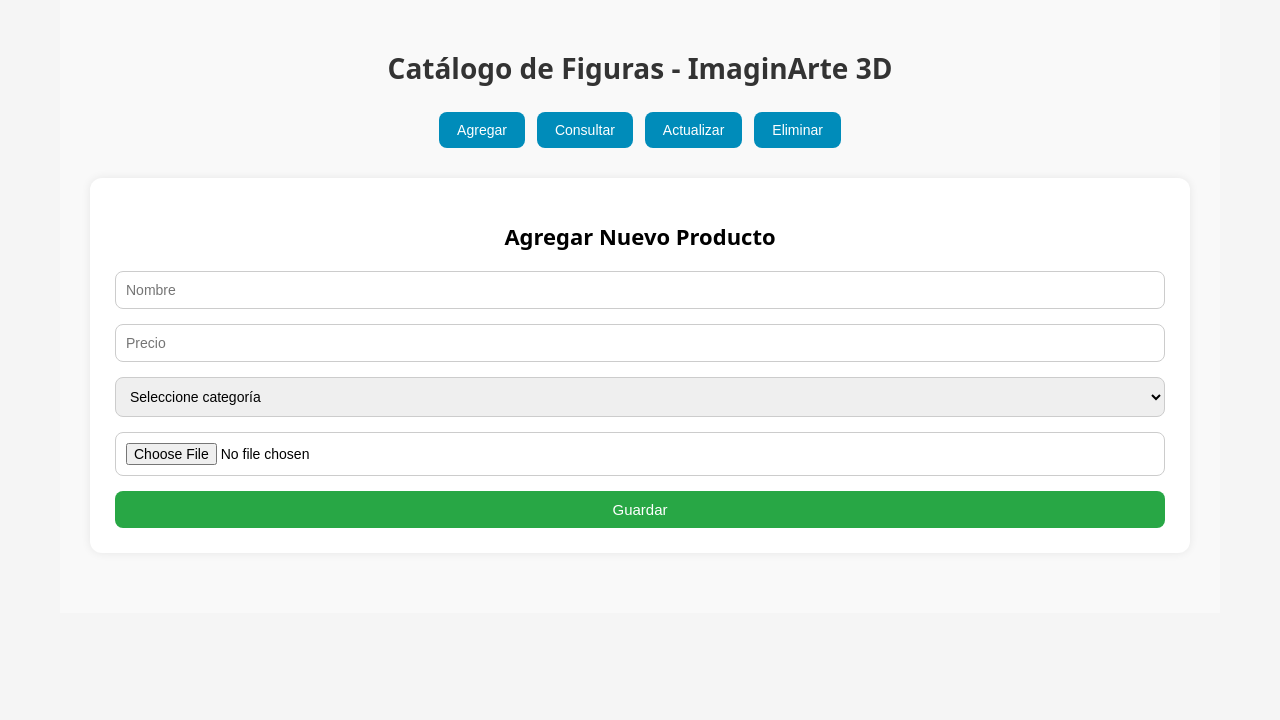
Test: CatalogoFiguras › Carga datos para actualizar figura al hacer clic en Editar
Click the button "Consultar" at (585, 130), box [537,112,633,148]
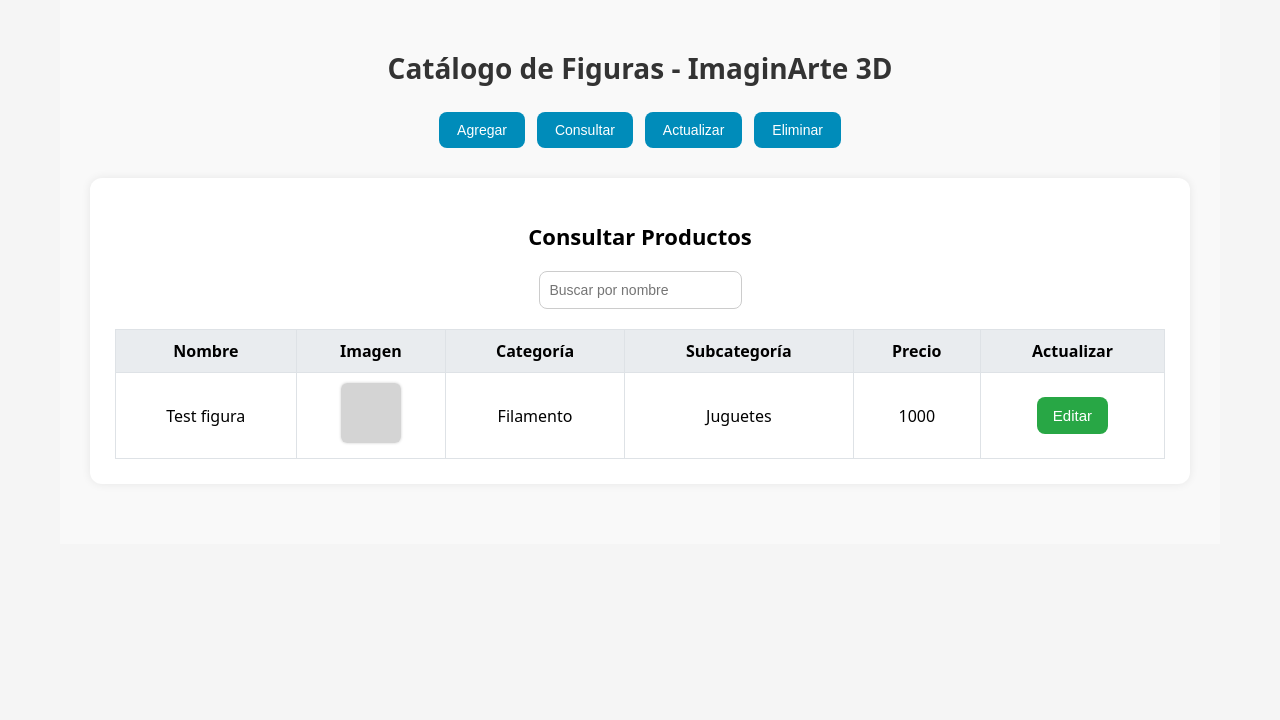
Click the button "Editar" at (1072, 416), box [1037,397,1108,434]
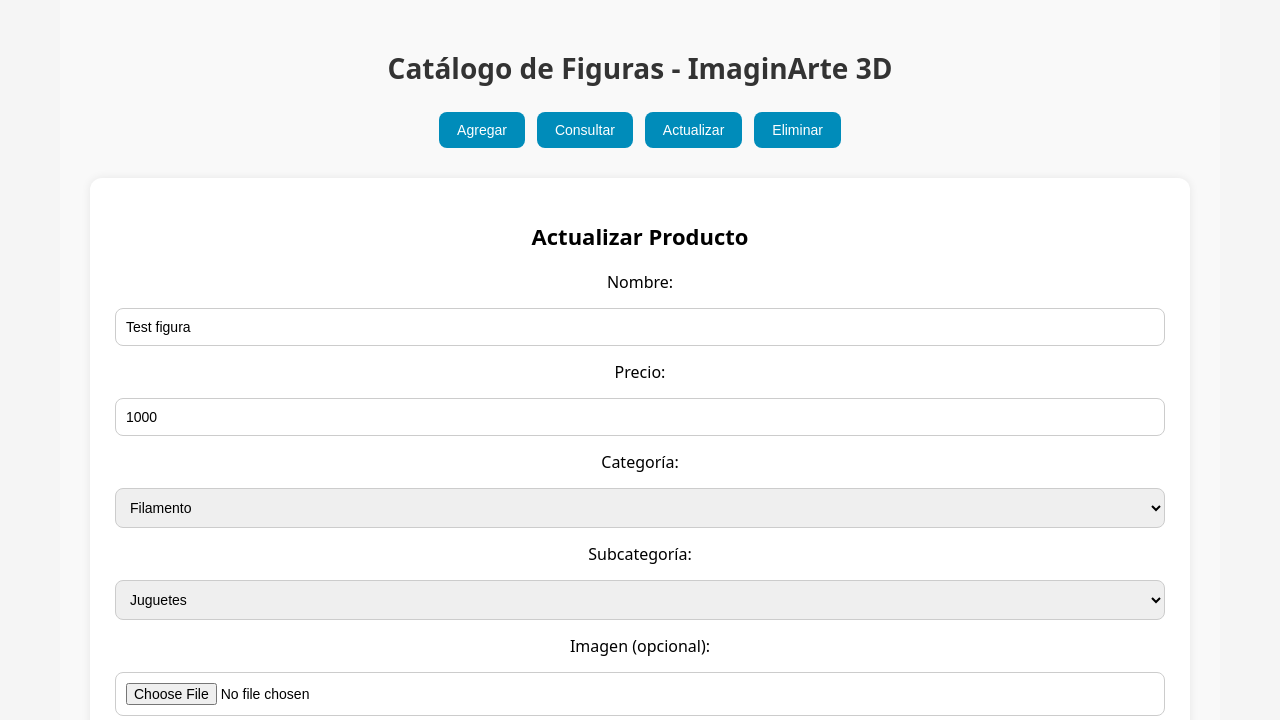
Now the field showing "Test figura" is shown, box [115,308,1165,346]
